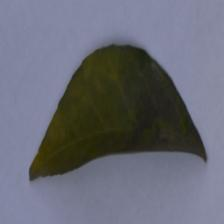greening: (29, 52, 124, 170)
